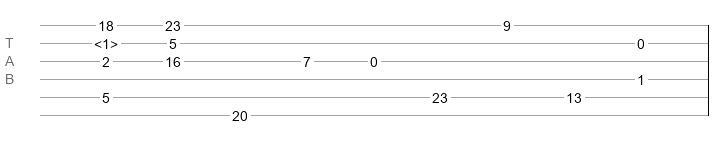0: (370, 54, 378, 64), (637, 36, 645, 46)
1: (637, 72, 645, 82)
13: (566, 90, 582, 100)
16: (165, 54, 181, 64)
18: (98, 18, 114, 28)
2: (102, 54, 110, 64)
20: (232, 108, 248, 118)
23: (165, 18, 181, 28), (432, 90, 448, 100)
5: (102, 90, 110, 100), (169, 36, 177, 46)
7: (303, 54, 311, 64)
9: (503, 18, 511, 28)
harmonic: (94, 36, 118, 46)
